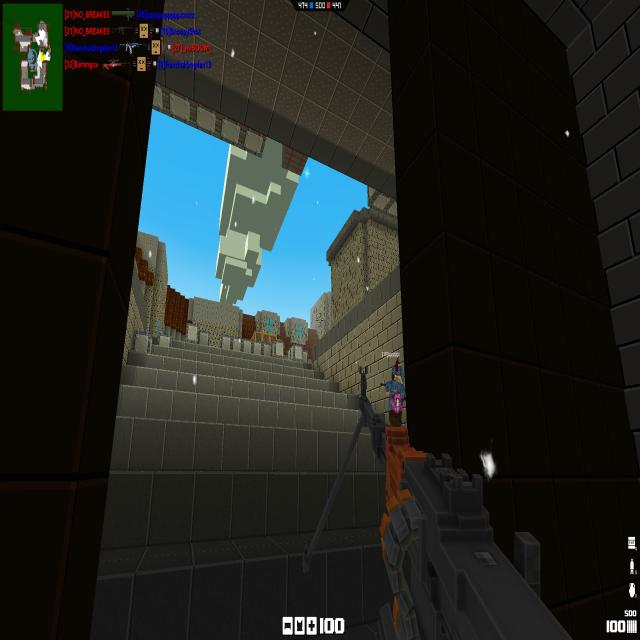player: (386, 361, 406, 425)
